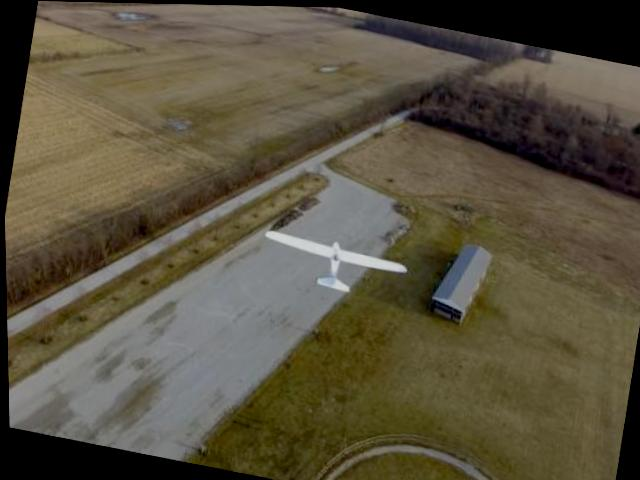uav: (249, 211, 417, 308)
